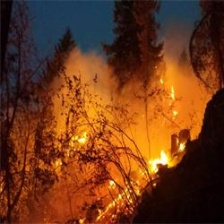fire: (67, 83, 192, 190)
